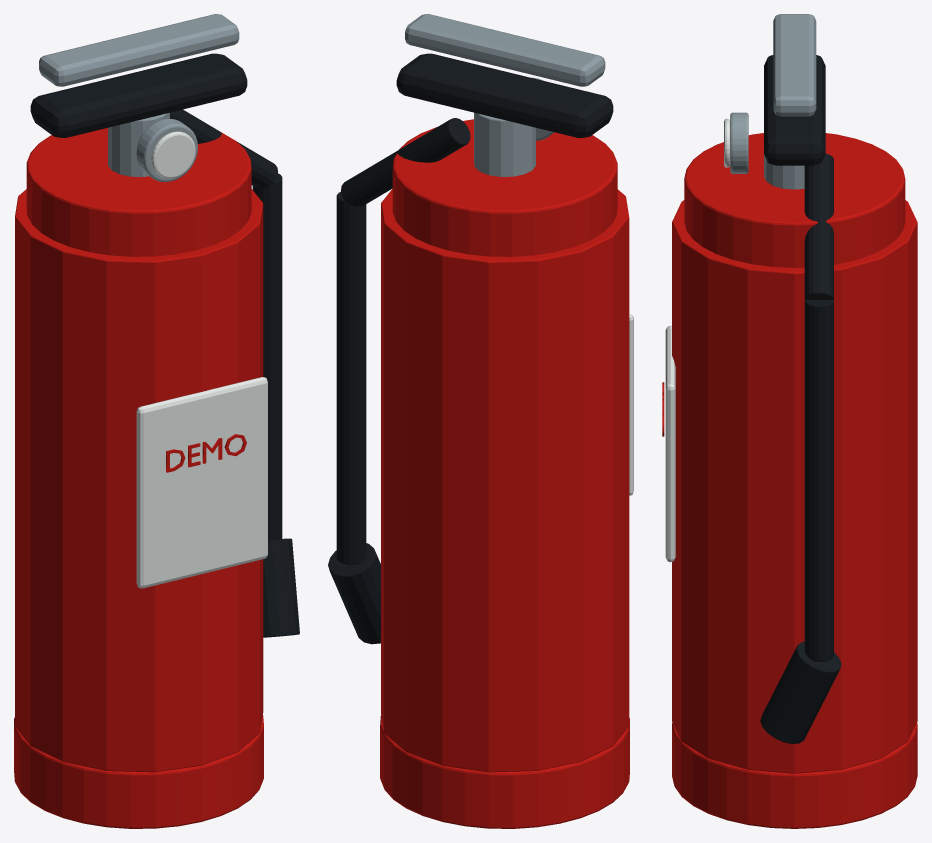
3 renders of one model, left to right at view 1: azimuth 30°, elevation 25°; view 2: azimuth 150°, elevation 25°; view 3: azimuth 270°, elevation 25°, orthographic.
Visible parts, largest first — view 1: BODY_Cylinder, LABEL_Plate, BODY_Shoulder, BODY_Bottom, HANDLE_Fixed, LEVER, HOSE_Side, NOZZLE, VALVE_Neck, GAUGE_Face, HOSE_Upper, GAUGE_Body (+1 smaller); view 2: BODY_Cylinder, BODY_Shoulder, BODY_Bottom, HOSE_Side, HANDLE_Fixed, LEVER, HOSE_Upper, VALVE_Neck, NOZZLE, LABEL_Plate; view 3: BODY_Cylinder, BODY_Shoulder, BODY_Bottom, HOSE_Side, NOZZLE, LEVER, HANDLE_Fixed, HOSE_Upper, LABEL_Plate, GAUGE_Body, VALVE_Neck.
Boxes of the visible parts, <box> form: BODY_Cylinder: <box>15,189,263,772</box>; LABEL_Plate: <box>136,377,267,588</box>; BODY_Shoulder: <box>26,128,251,256</box>; BODY_Bottom: <box>14,715,263,828</box>; HANDLE_Fixed: <box>30,53,247,137</box>; LEVER: <box>39,14,239,86</box>; HOSE_Side: <box>252,173,282,540</box>; NOZZLE: <box>263,538,299,637</box>; VALVE_Neck: <box>108,112,169,176</box>; GAUGE_Face: <box>151,131,195,178</box>; HOSE_Upper: <box>170,109,277,188</box>; GAUGE_Body: <box>136,119,197,182</box>; BODY_Cylinder: <box>381,189,629,772</box>; BODY_Shoulder: <box>392,119,617,256</box>; BODY_Bottom: <box>380,715,629,828</box>; HOSE_Side: <box>336,192,366,564</box>; HANDLE_Fixed: <box>396,53,613,137</box>; LEVER: <box>405,14,605,86</box>; HOSE_Upper: <box>341,118,470,206</box>; VALVE_Neck: <box>474,112,535,176</box>; NOZZLE: <box>328,543,380,644</box>; LABEL_Plate: <box>629,314,633,495</box>; BODY_Cylinder: <box>672,200,917,773</box>; BODY_Shoulder: <box>684,133,905,267</box>; BODY_Bottom: <box>672,722,917,828</box>; HOSE_Side: <box>804,300,833,661</box>; NOZZLE: <box>760,641,841,743</box>; LEVER: <box>773,14,816,116</box>; HANDLE_Fixed: <box>764,55,825,165</box>; HOSE_Upper: <box>804,153,833,299</box>; LABEL_Plate: <box>665,325,675,562</box>; GAUGE_Body: <box>730,112,748,173</box>; VALVE_Neck: <box>764,154,804,189</box>.
Bounding box in the file's own units: 0.2496 × 0.649 × 0.2078.
